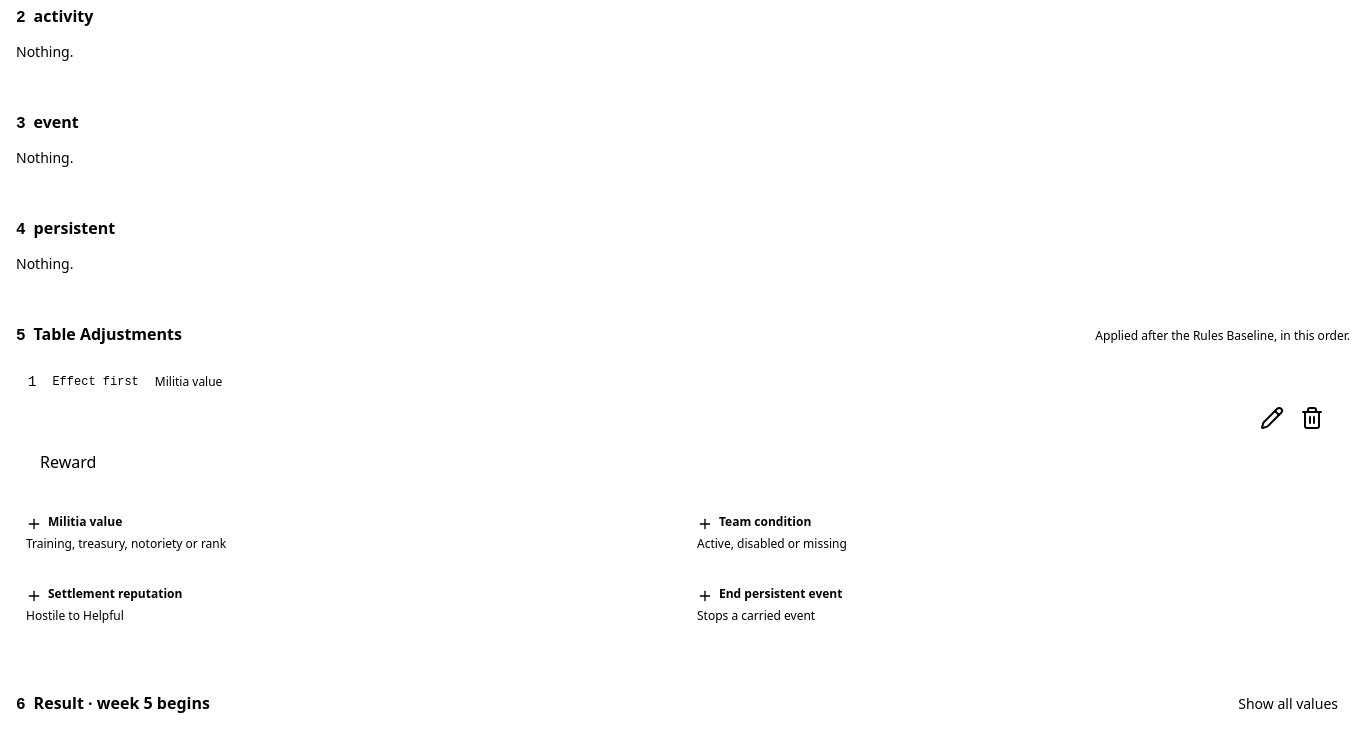
[rules.P85.adjustment-failure] a failed save keeps the local input, its registration and a recovery message
(page scrolled)
Replace the text in the text box with "Better reason". click: (683, 462)
box: 28,444 -> 1338,480
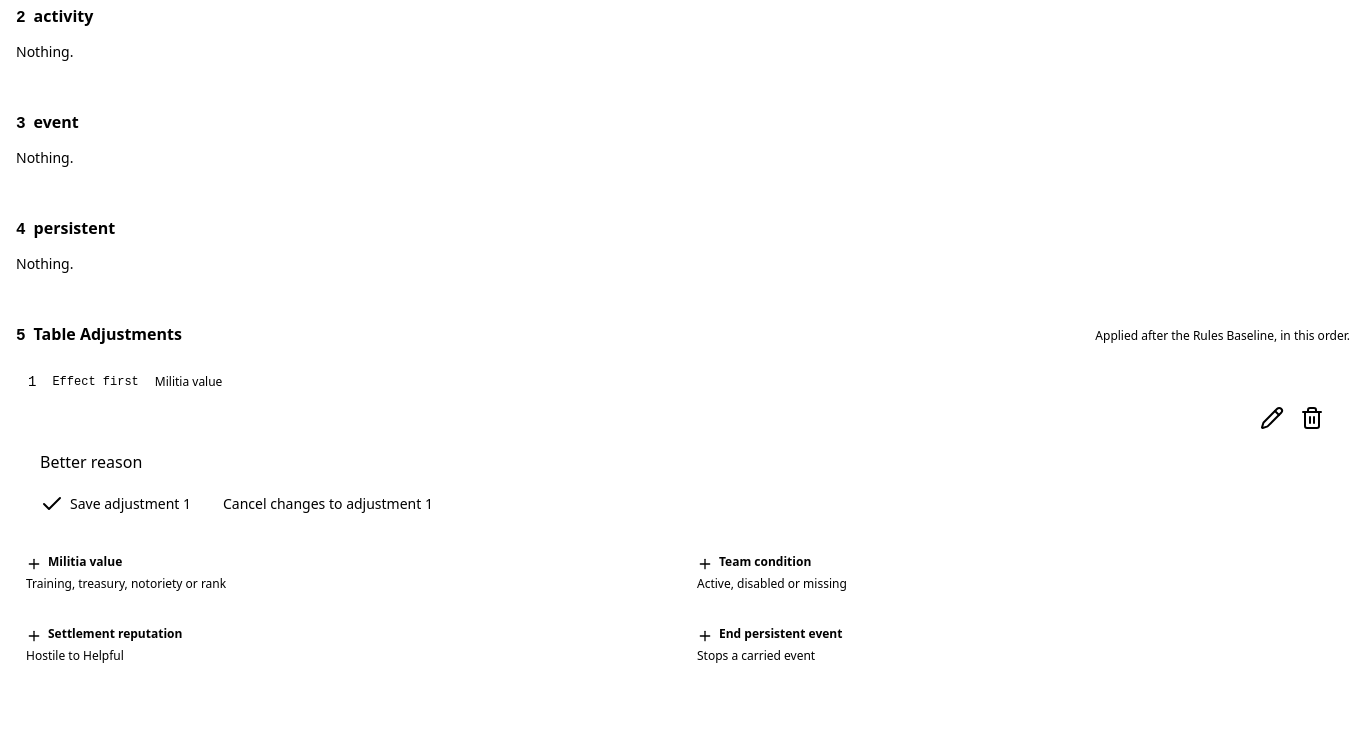
Click the button "Save adjustment 1". click: (116, 504)
box: 28,488 -> 203,520
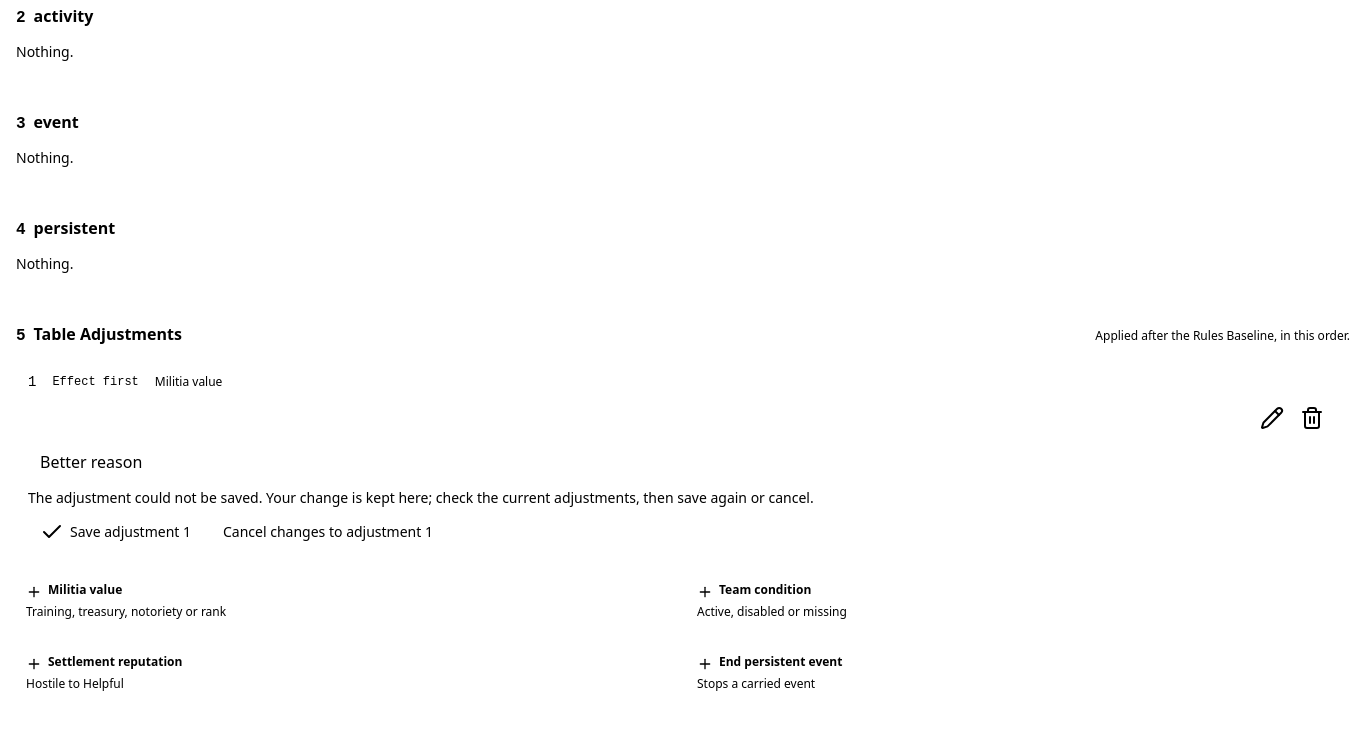
Expected: the text "The adjustment could not be saved" is shown, 28,488 -> 814,507
